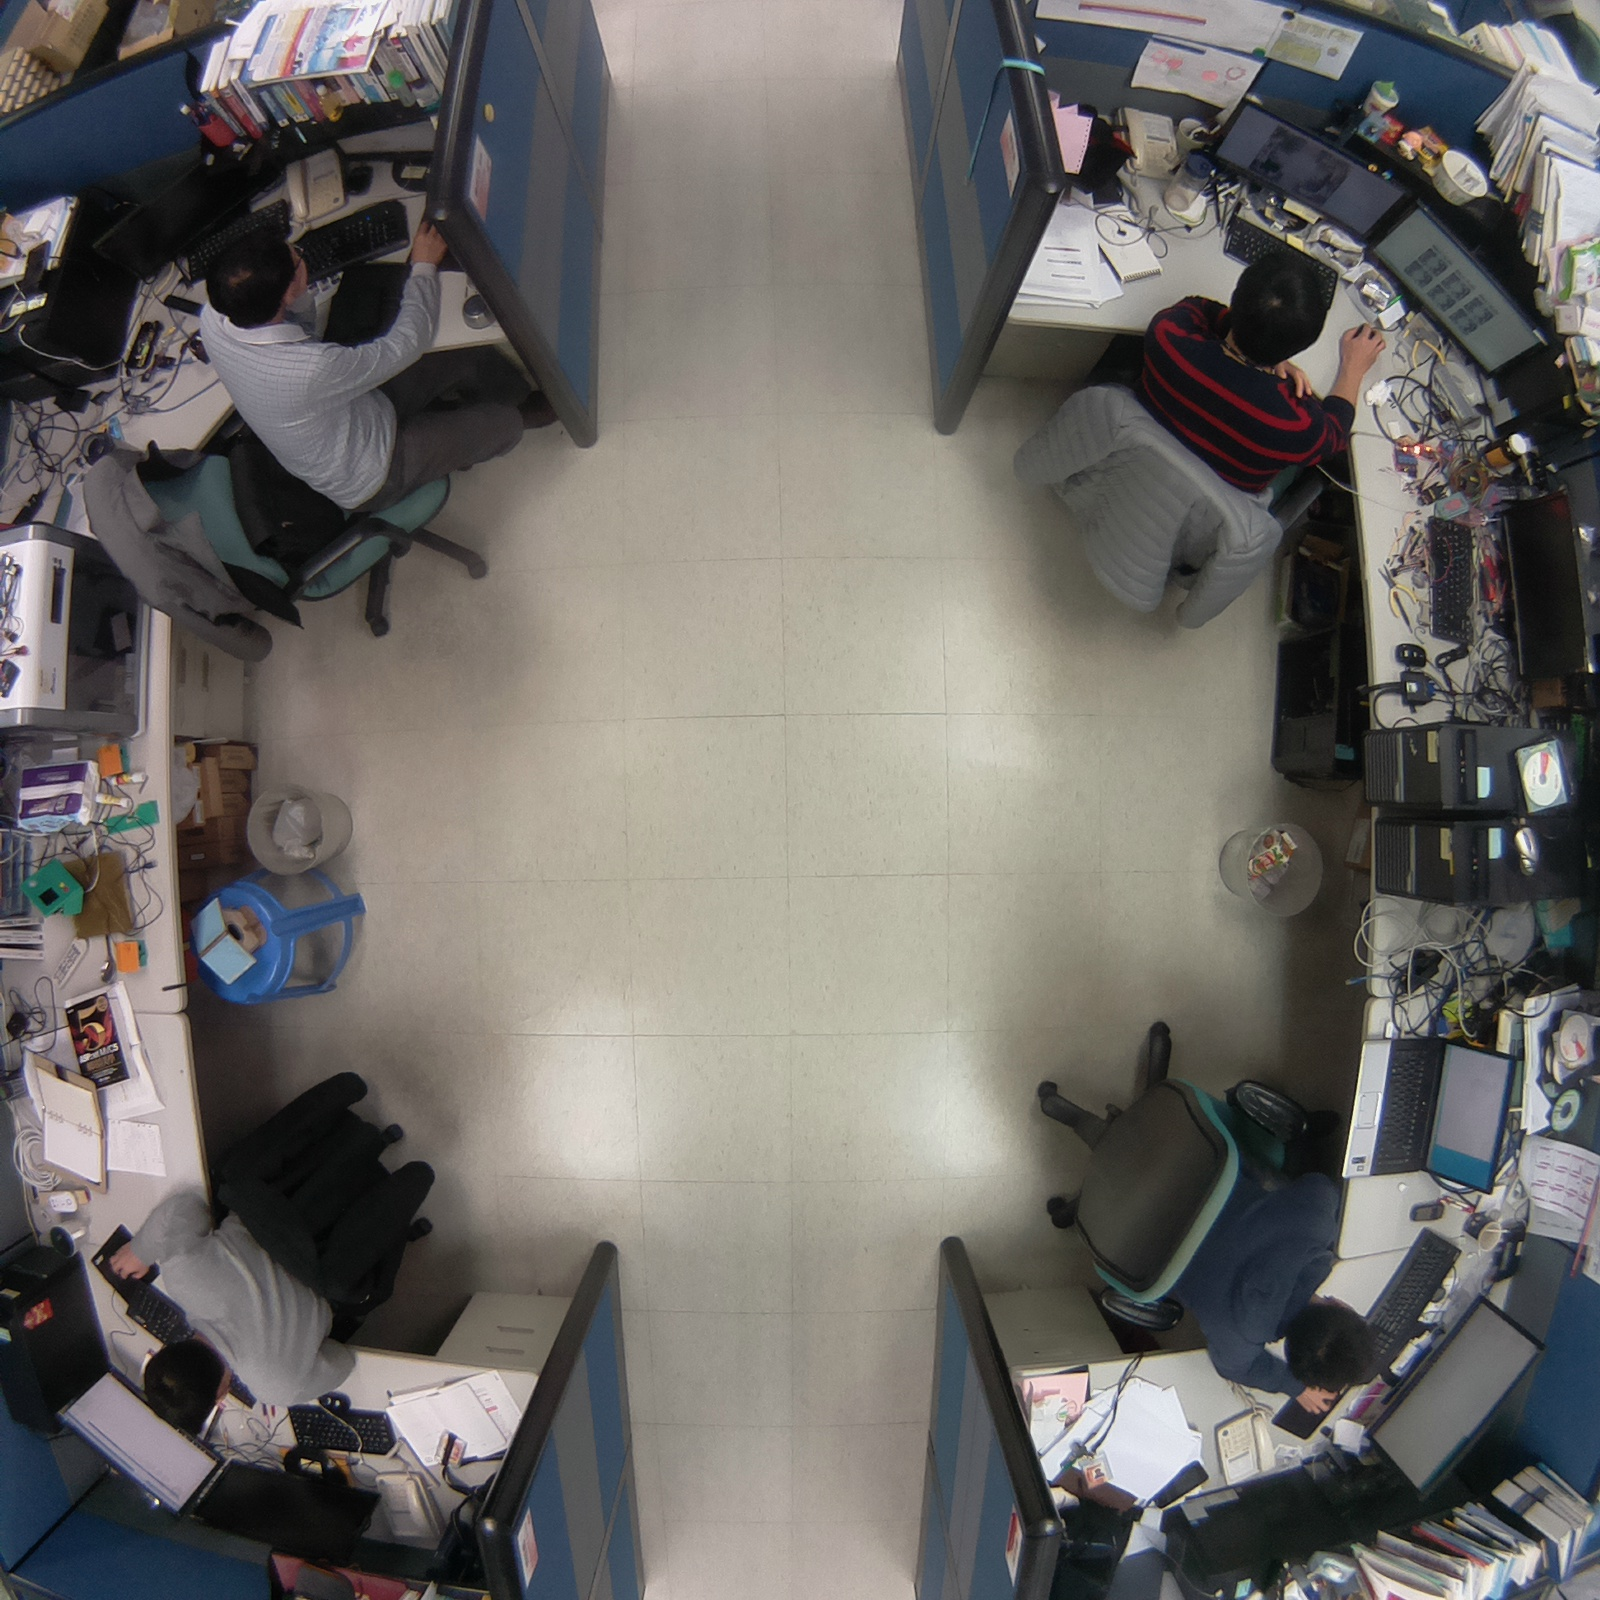head: (1221, 251, 1334, 370), (1278, 1293, 1385, 1402), (200, 225, 315, 327), (140, 1336, 236, 1438)
sitting: (65, 201, 529, 678), (1006, 1001, 1401, 1434), (996, 240, 1391, 640), (106, 1040, 460, 1445)
